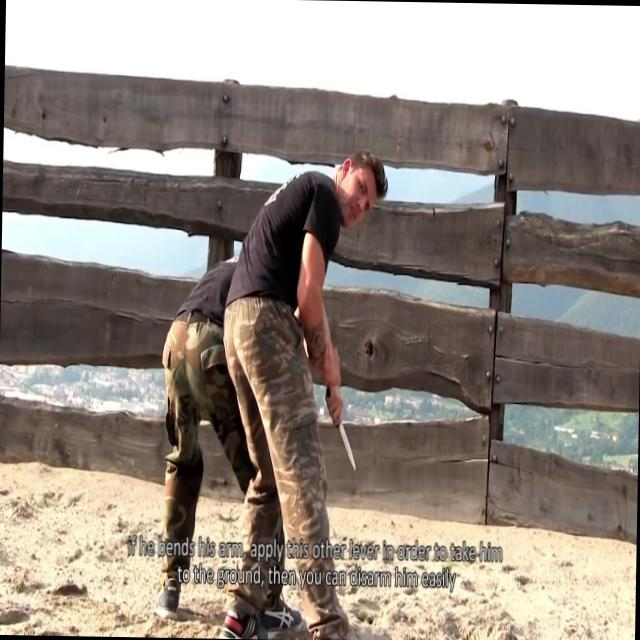knife: (321, 386, 361, 479)
